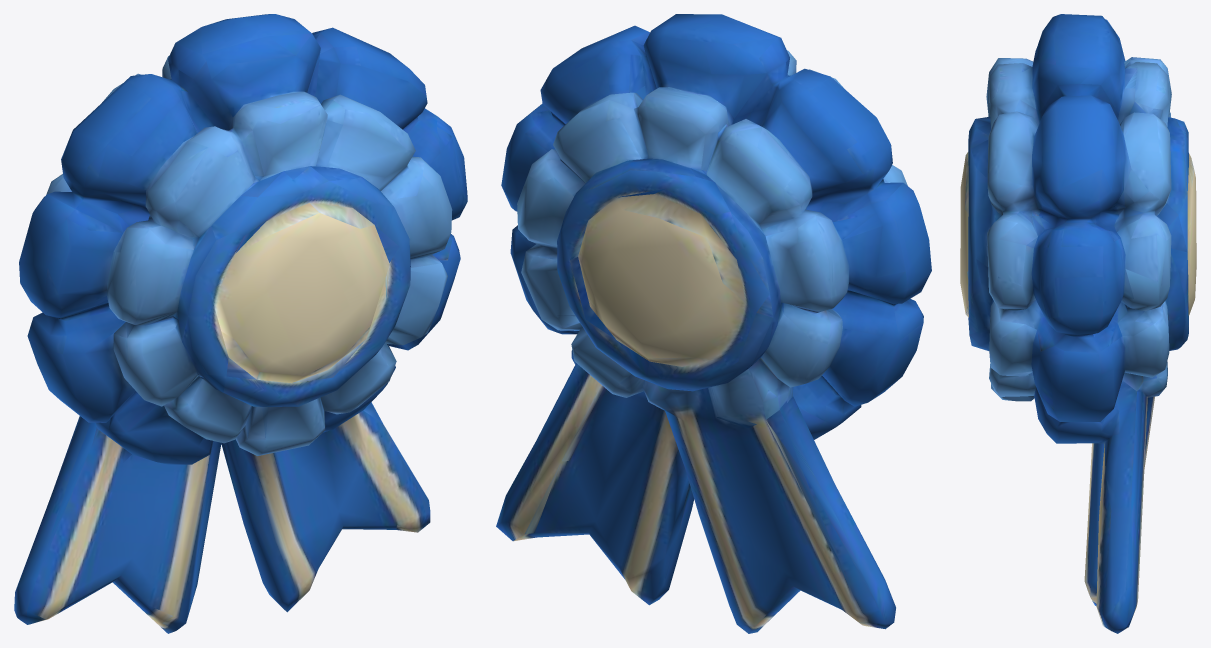
The picture shows the model from 3 angles, left to right: view 1: azimuth 30°, elevation 25°; view 2: azimuth 150°, elevation 25°; view 3: azimuth 270°, elevation 25°; orthographic projection. The views are drawn at different scales.
Parts seen in each view (by area): view 1: rosette; view 2: rosette; view 3: rosette.
Boxes of the visible parts, box(x1,y1,x2,y2) form: rosette: box(14, 14, 467, 633); rosette: box(496, 14, 931, 633); rosette: box(960, 14, 1196, 633).
Bounding box in the file's own units: 0.1831 × 0.2498 × 0.0966.
1 material, 1 textured.
